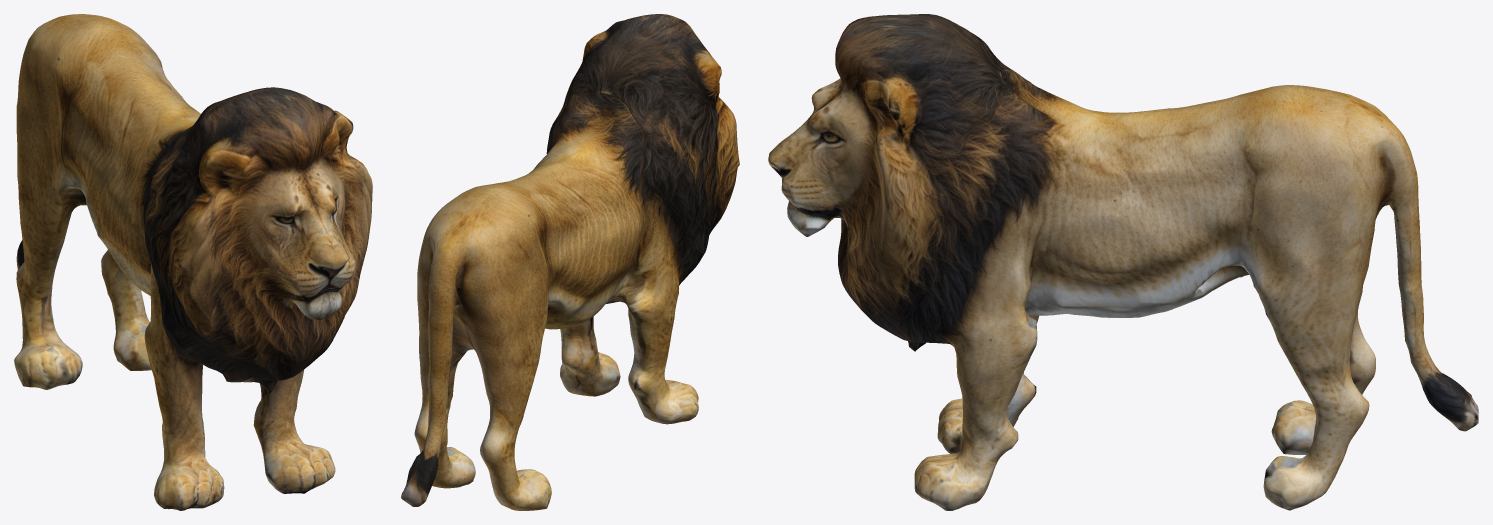
File: Leon.gltf
3 views of the same model, side by side, from view 1: azimuth 30°, elevation 25°; view 2: azimuth 150°, elevation 25°; view 3: azimuth 270°, elevation 25° (orthographic). The views are drawn at different scales.
Parts seen in each view (by area): view 1: Mesh_0_Material_0_0; view 2: Mesh_0_Material_0_0; view 3: Mesh_0_Material_0_0.
Boxes of the visible parts, x1,y1,x2,y2 form: Mesh_0_Material_0_0: (14,14,372,510); Mesh_0_Material_0_0: (401,14,739,510); Mesh_0_Material_0_0: (768,14,1478,510).
Size of the model in its own units: 0.419 by 0.8499 by 1.2.
1 material, 1 textured.
